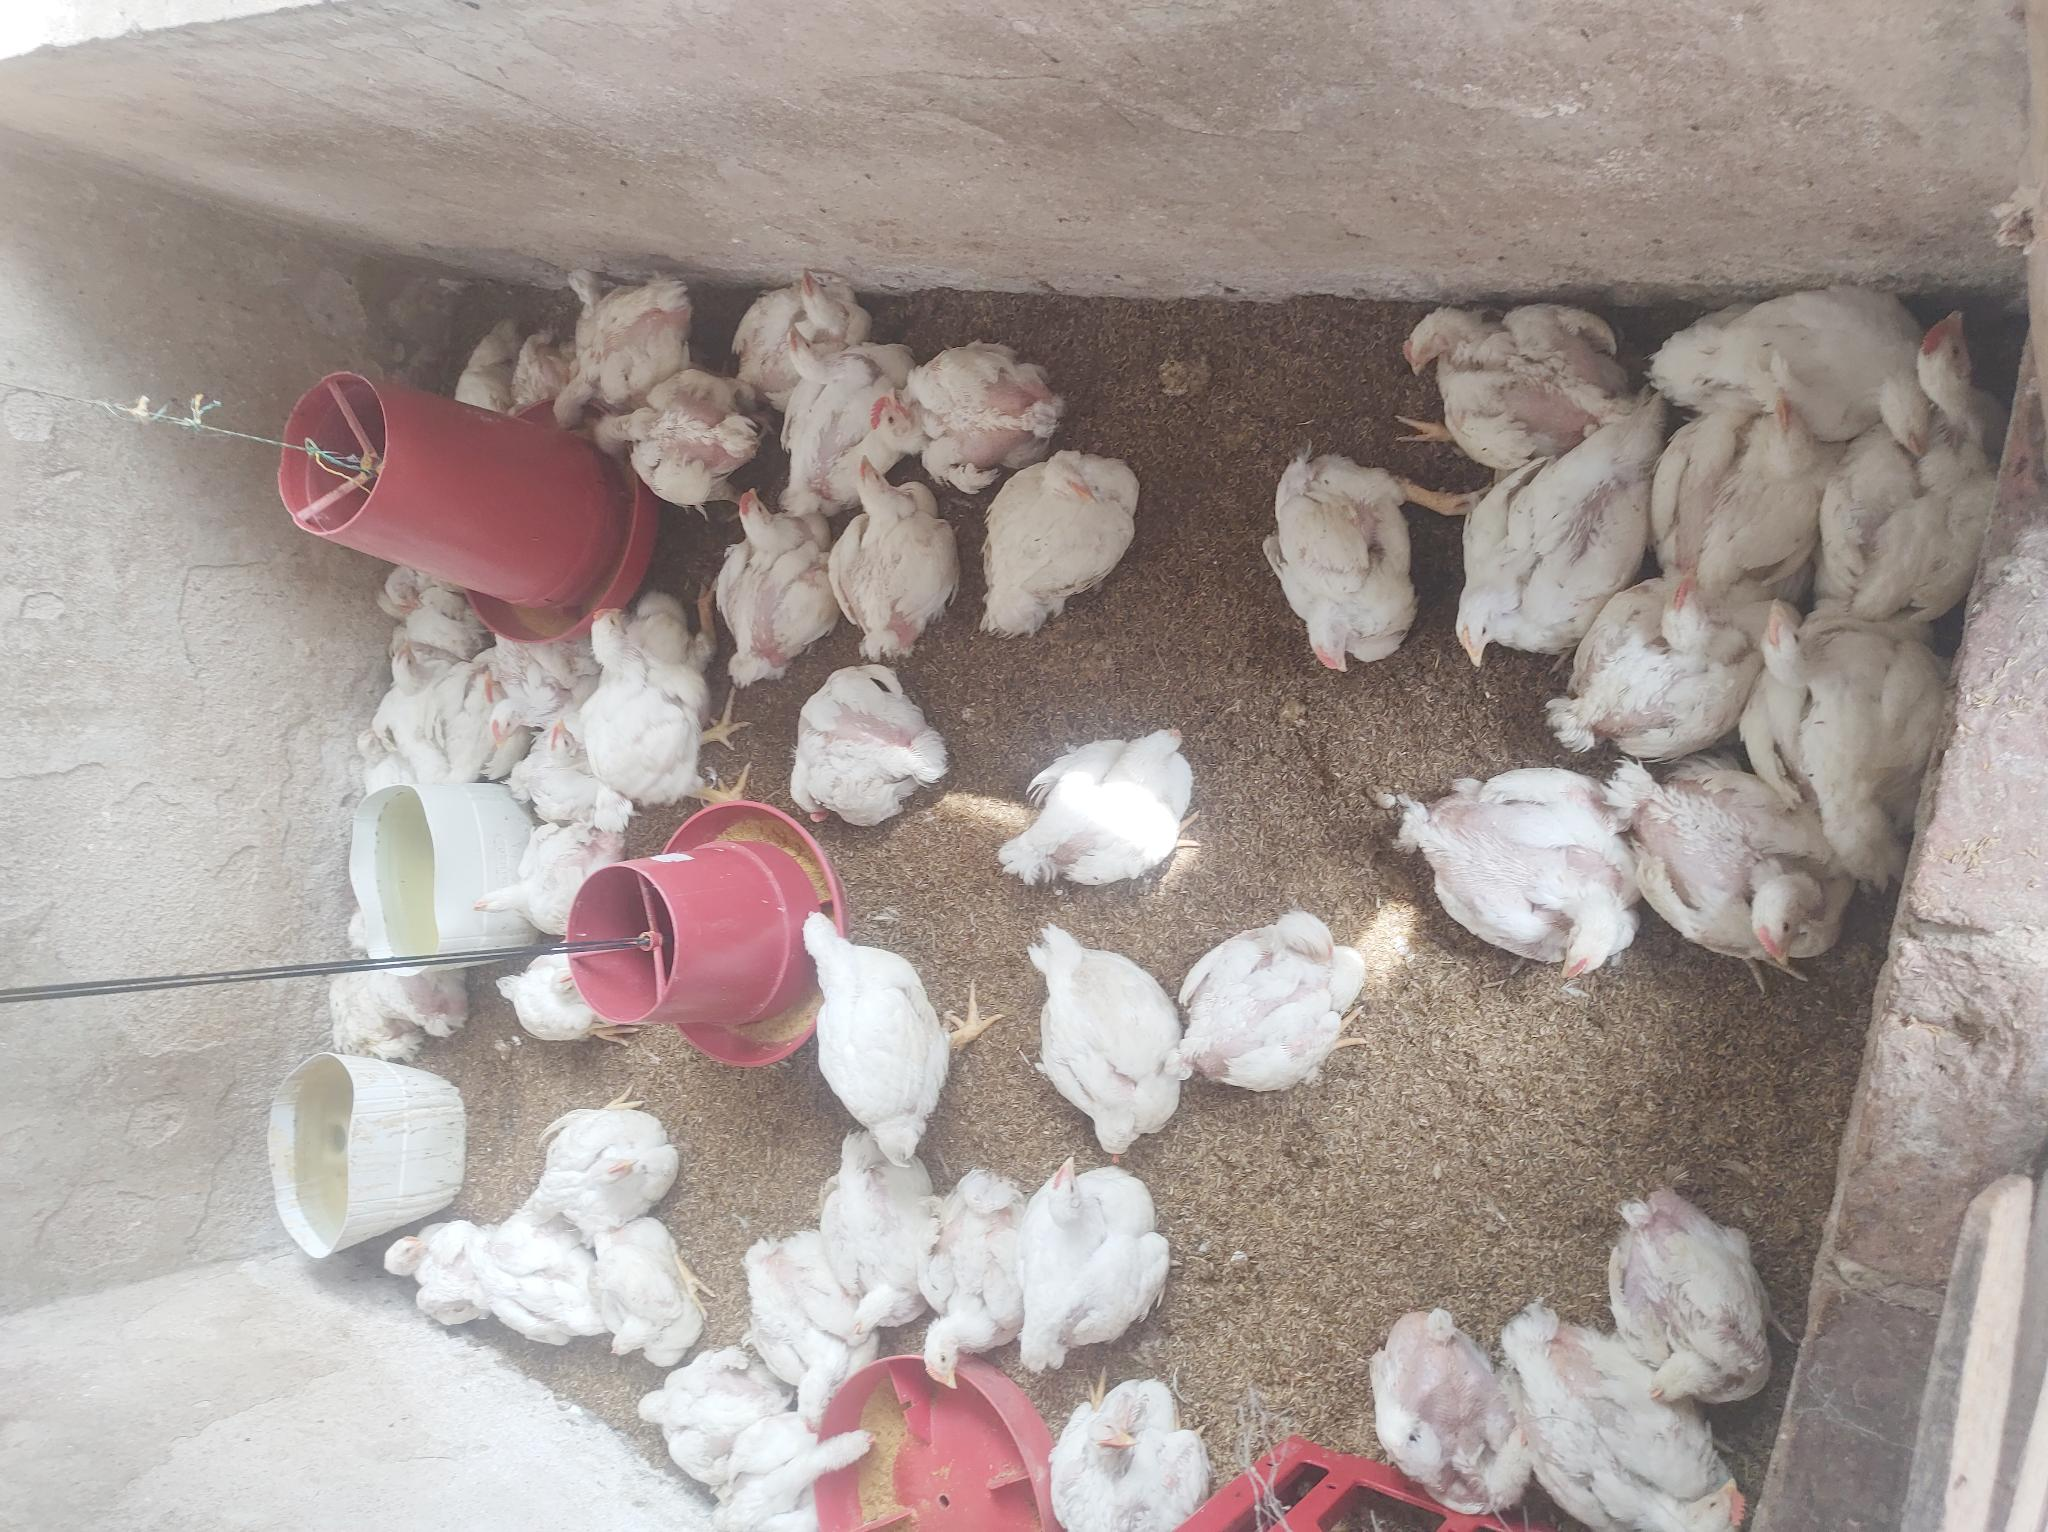Pollos: (1445, 389, 1668, 695), (1810, 306, 2013, 628), (1507, 1297, 1778, 1532), (1396, 766, 1659, 991), (1667, 249, 1940, 463), (1635, 386, 1857, 615), (1635, 766, 1866, 983), (1609, 1168, 1807, 1418), (1746, 599, 1934, 850), (800, 908, 960, 1183), (997, 924, 1192, 1149), (1252, 433, 1424, 679), (1396, 282, 1615, 457), (985, 719, 1208, 890), (1179, 909, 1384, 1093), (574, 599, 738, 826), (1588, 563, 1766, 769), (1014, 1162, 1179, 1366), (869, 328, 1078, 488), (713, 1226, 886, 1415), (269, 890, 433, 1085), (1380, 1307, 1528, 1505), (985, 454, 1145, 636), (829, 457, 977, 652), (560, 241, 698, 439), (763, 328, 923, 497), (1026, 1398, 1226, 1532), (578, 380, 779, 512), (822, 1115, 933, 1337), (782, 661, 940, 816), (470, 813, 639, 951), (927, 1167, 1026, 1398), (713, 491, 840, 673), (470, 1183, 602, 1344), (708, 1421, 906, 1526), (581, 1223, 714, 1371), (352, 1196, 470, 1344), (491, 941, 631, 1065), (553, 1085, 692, 1205), (745, 266, 880, 386), (652, 1340, 779, 1468), (439, 306, 533, 433), (335, 587, 476, 655), (491, 628, 566, 748), (376, 649, 446, 763), (372, 534, 479, 600), (455, 658, 523, 698)
